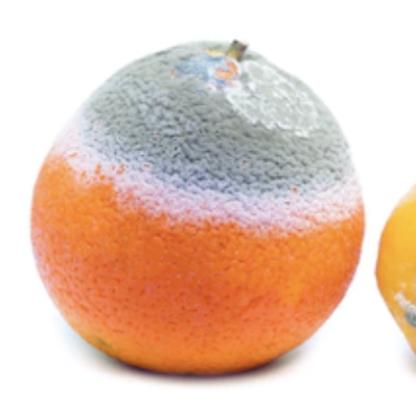rotten: (34, 38, 368, 379)
